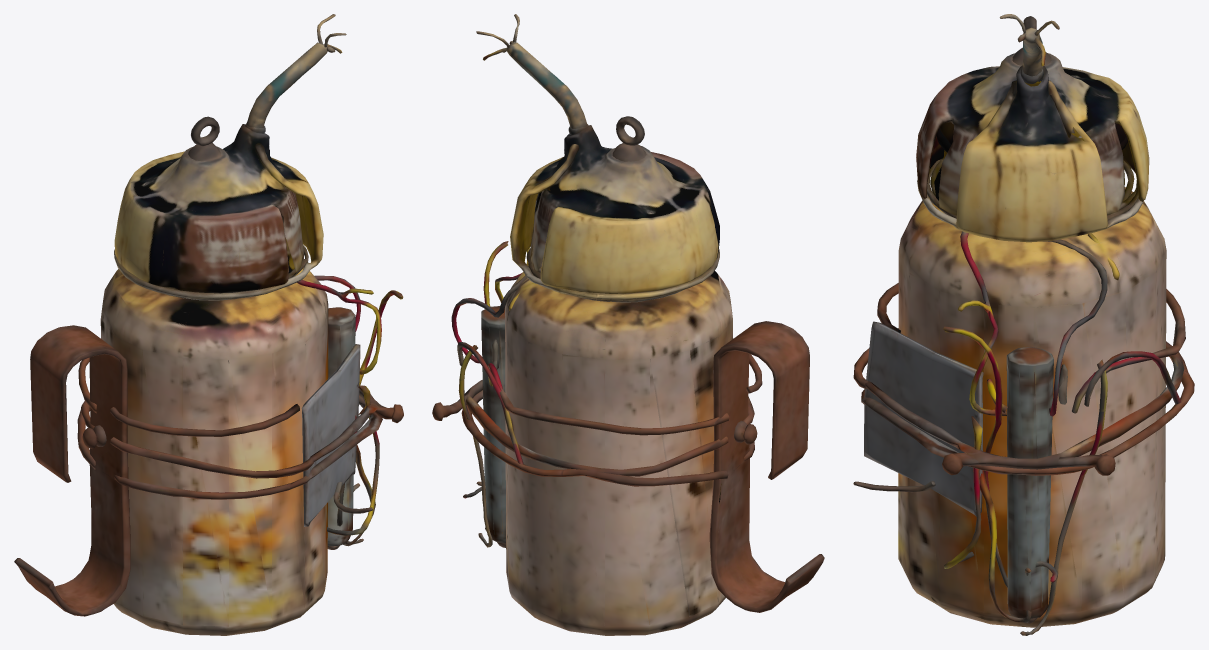
File: incendiary_flash_vial.glb
3 views of the same model, side by side, from view 1: azimuth 30°, elevation 25°; view 2: azimuth 150°, elevation 25°; view 3: azimuth 270°, elevation 25° (orthographic). The views are drawn at different scales.
Parts seen in each view (by area): view 1: geometry_0; view 2: geometry_0; view 3: geometry_0.
Part boxes in pixels (<box>): geometry_0: <box>14,14,403,635</box>; geometry_0: <box>432,14,824,635</box>; geometry_0: <box>853,14,1194,635</box>.
Size of the model in its own units: 0.6603 by 1 by 0.4923.
1 material, 1 textured.
